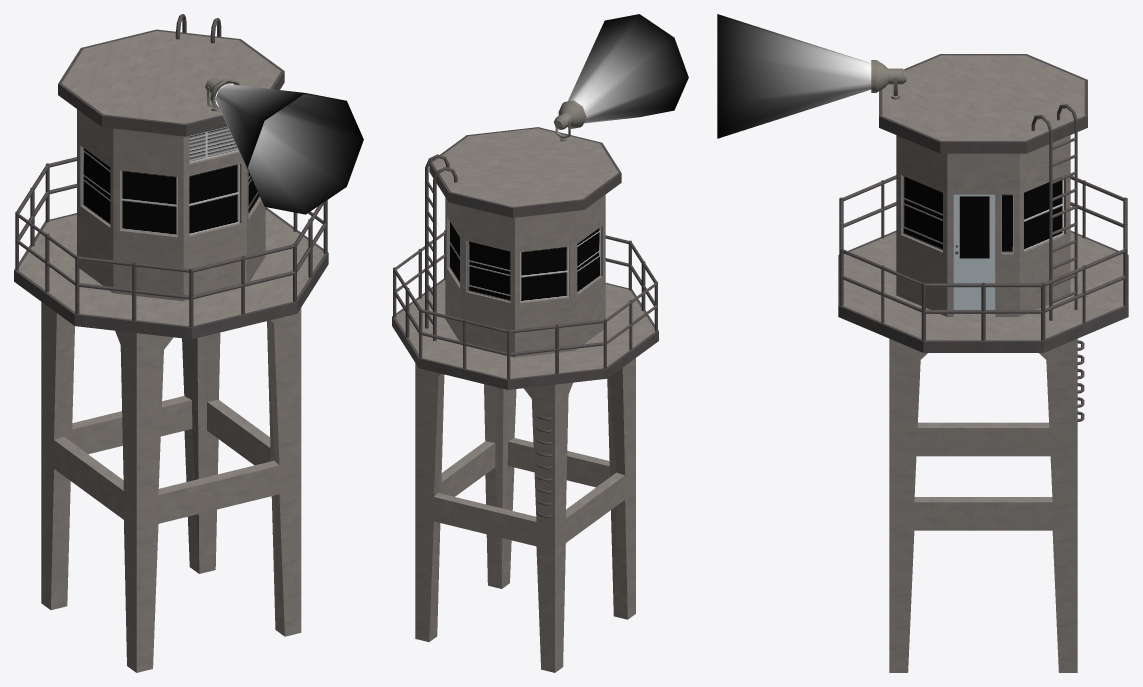
Rendered from building-guard-tower.glb.
3 views of the same model, side by side, from view 1: azimuth 30°, elevation 25°; view 2: azimuth 150°, elevation 25°; view 3: azimuth 270°, elevation 25° (orthographic). The views are drawn at different scales.
Parts seen in each view (by area): view 1: building-guard-tower, fx-spot-light-shaft; view 2: building-guard-tower, fx-spot-light-shaft, prop-spot-light; view 3: building-guard-tower, fx-spot-light-shaft, prop-spot-light.
Boxes of the visible parts, x1,y1,x2,y2 form: building-guard-tower: (14,14,328,672); fx-spot-light-shaft: (215,84,363,214); building-guard-tower: (392,127,658,672); fx-spot-light-shaft: (568,14,688,123); prop-spot-light: (554,100,586,129); building-guard-tower: (838,54,1128,672); fx-spot-light-shaft: (717,14,871,138); prop-spot-light: (871,60,906,92).
Size of the model in its own units: 4.62 by 10.84 by 6.55.
7 materials, 7 textured.
